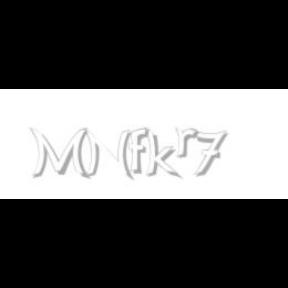7: (190, 128, 228, 178)
M: (30, 128, 88, 180)
N: (83, 128, 132, 180)
f: (129, 128, 153, 174)
k: (144, 128, 182, 180)
r: (174, 128, 202, 158)
